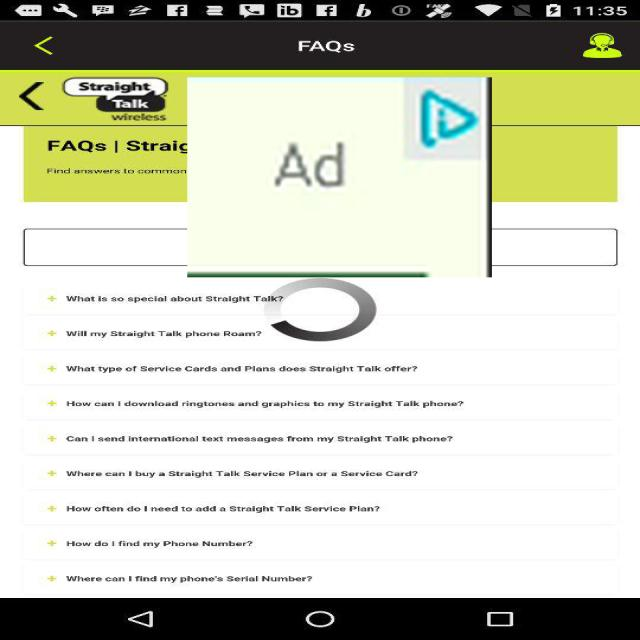sneaking: (187, 78, 492, 278)
